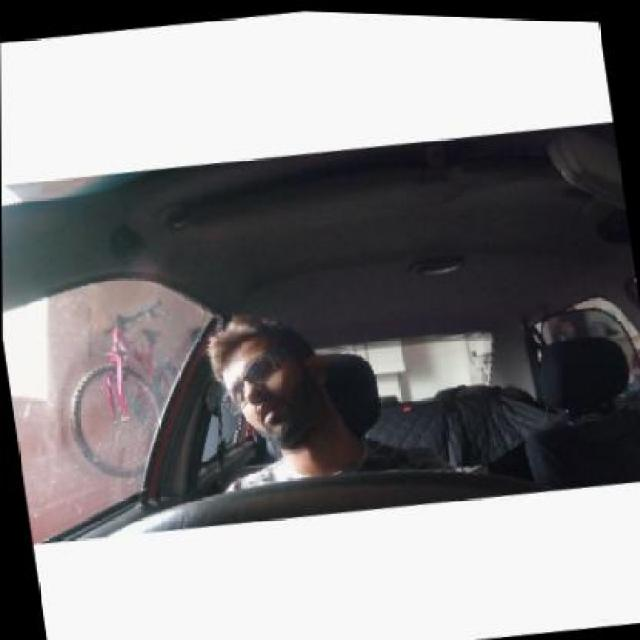drowsy: (200, 325, 341, 446)
